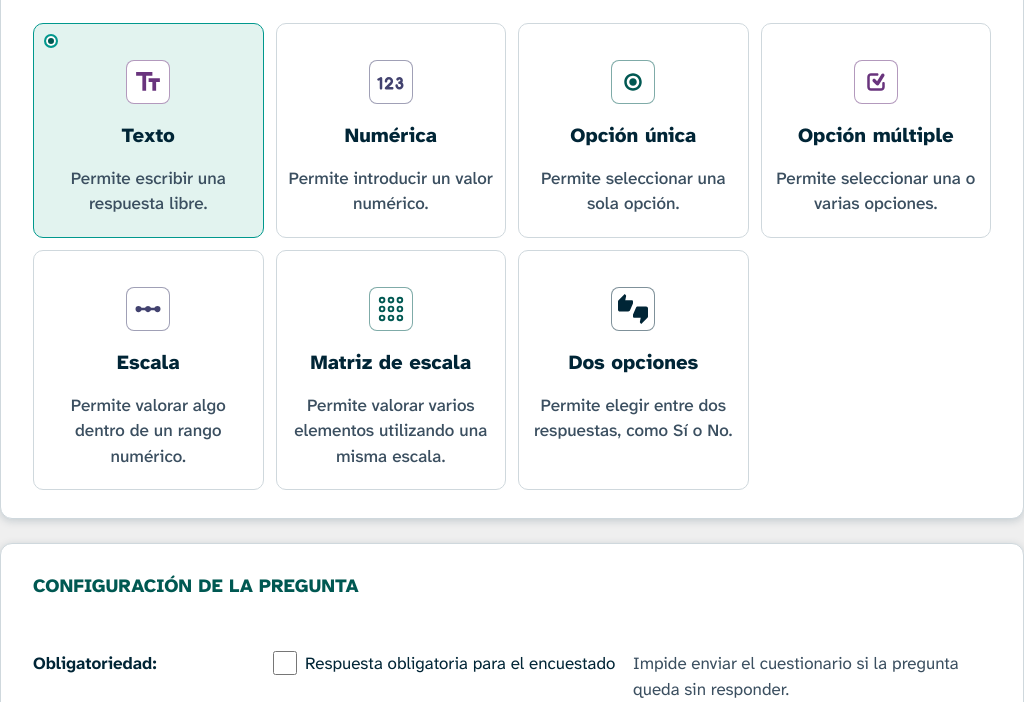
Scenario: QuestionBuilder › ajusta una escala visual y permite añadir filas de matriz
(page scrolled)
Click the button "Matriz de escala": (391, 370) [276,250,506,490]
(page scrolled)
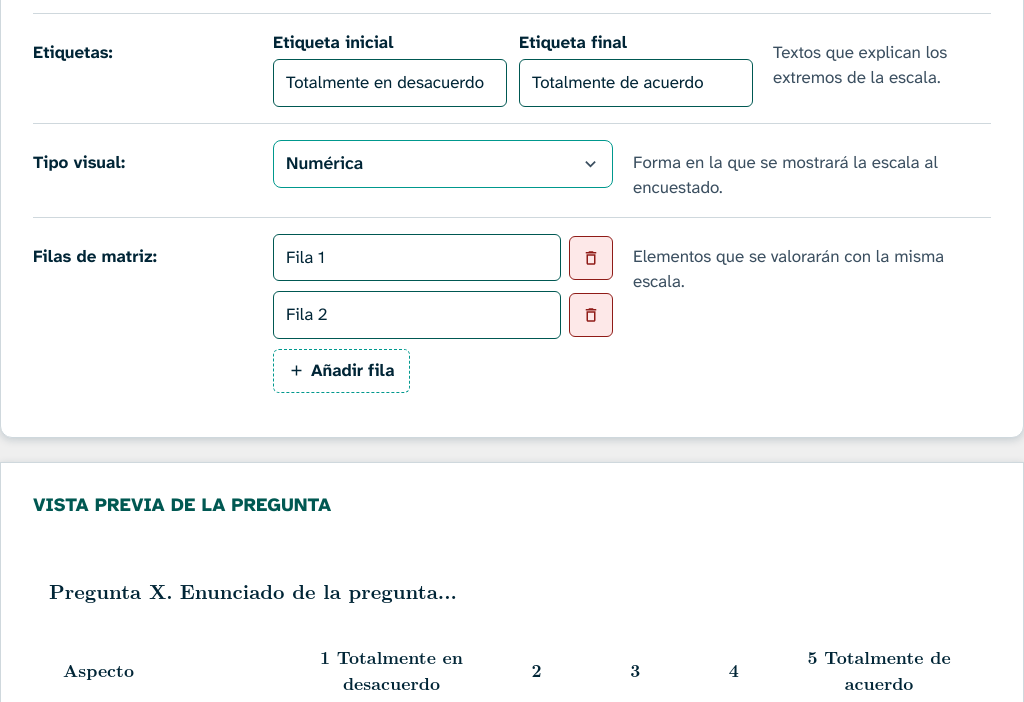
Click the button "Añadir fila": (341, 371) [273,349,410,393]
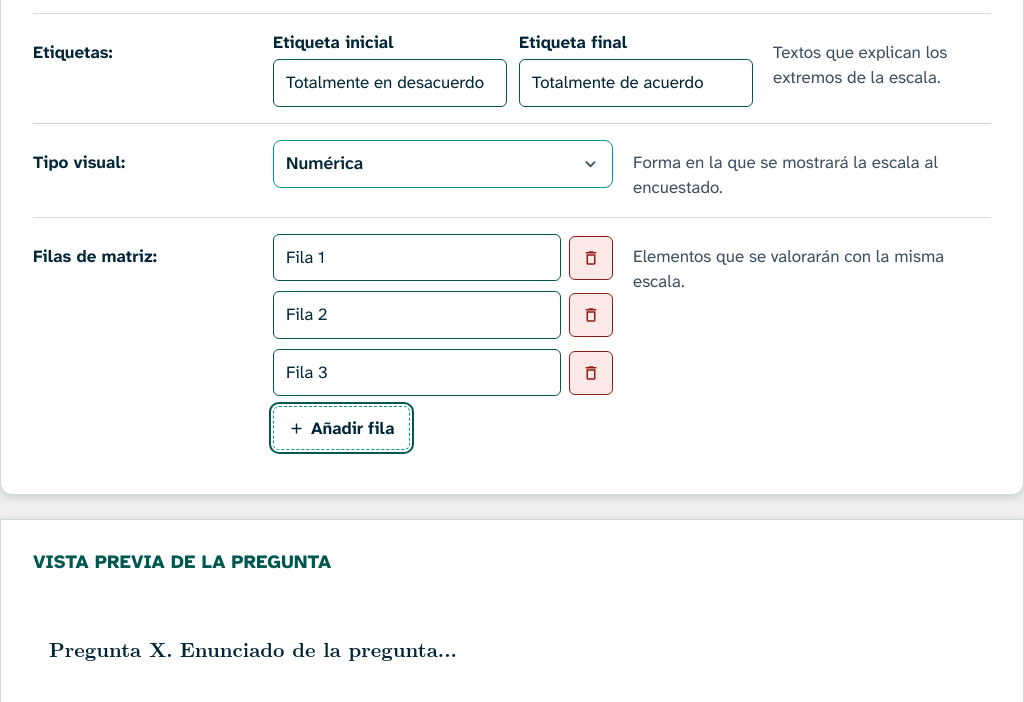
Check: the number of fields with placeholder "Texto de la fila" is 3, box [273,234,561,281]; [273,291,561,339]; [273,349,561,396]
Click the 1st button named "Eliminar fila": (591, 258) [569,236,613,280]
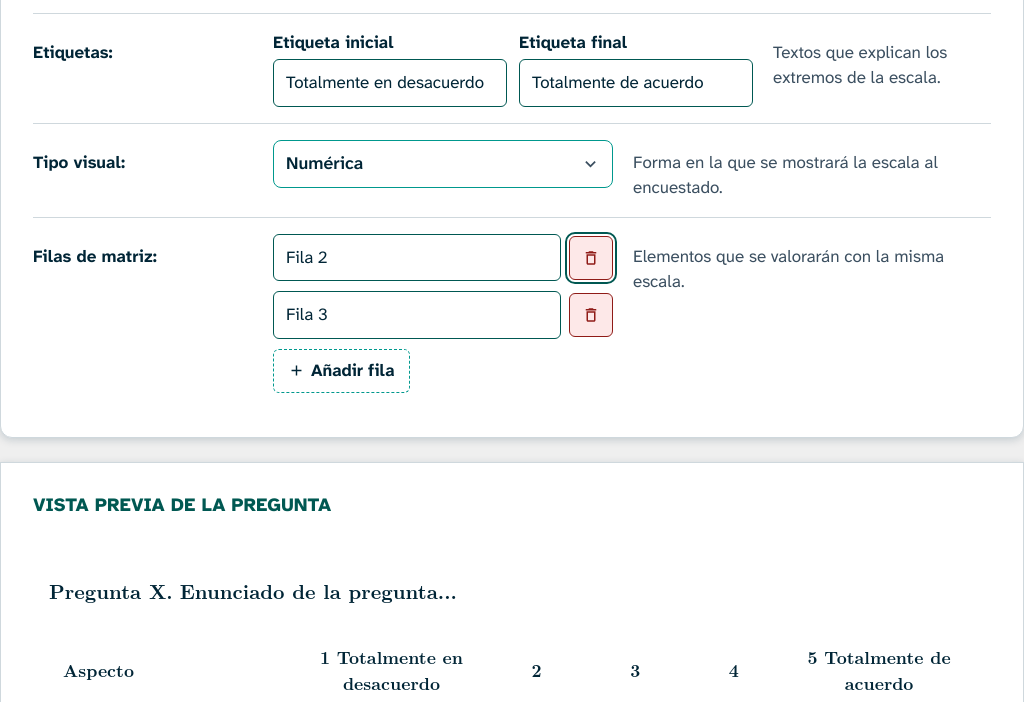
Check: the number of fields with placeholder "Texto de la fila" is 2, box [273,234,561,281]; [273,291,561,339]
Click the button with aria-label "Tipo visual de la escala": (325, 163) [273,140,613,188]
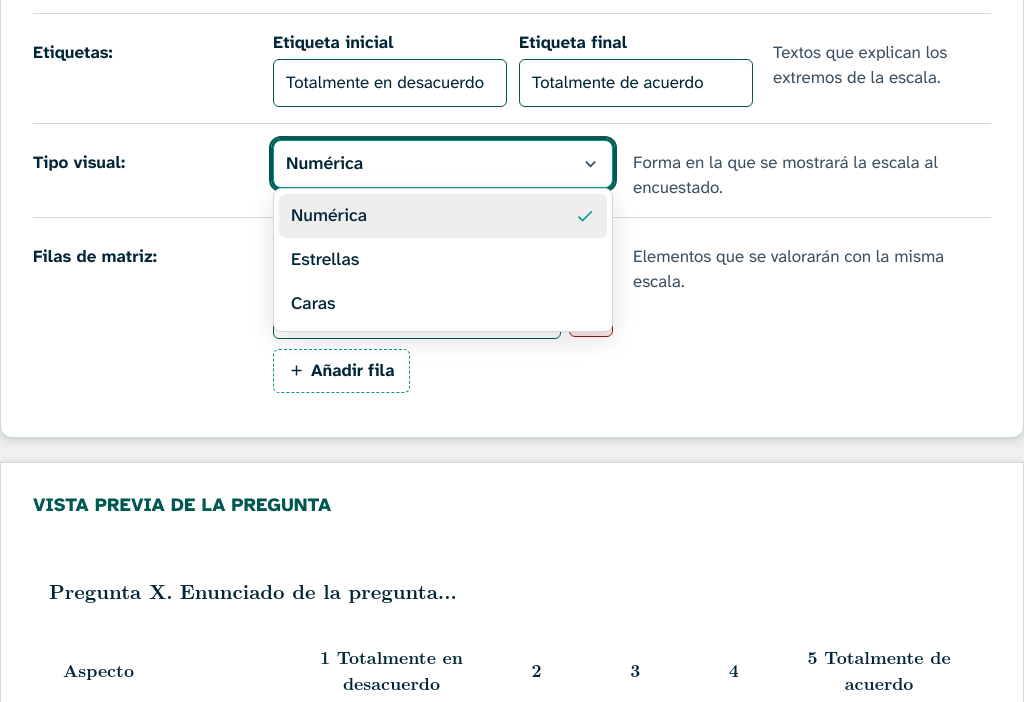
Click the button "Estrellas": (325, 260) [279,238,607,282]
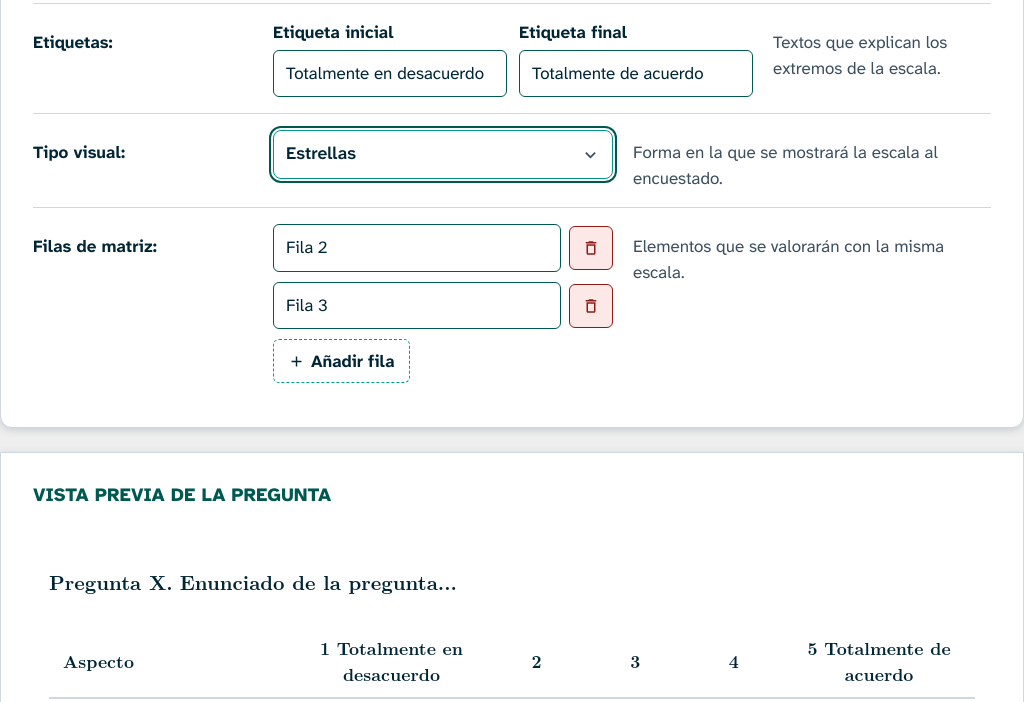
Check: the button with aria-label "Tipo visual de la escala: Estrellas" is shown, box [273,130,613,179]
